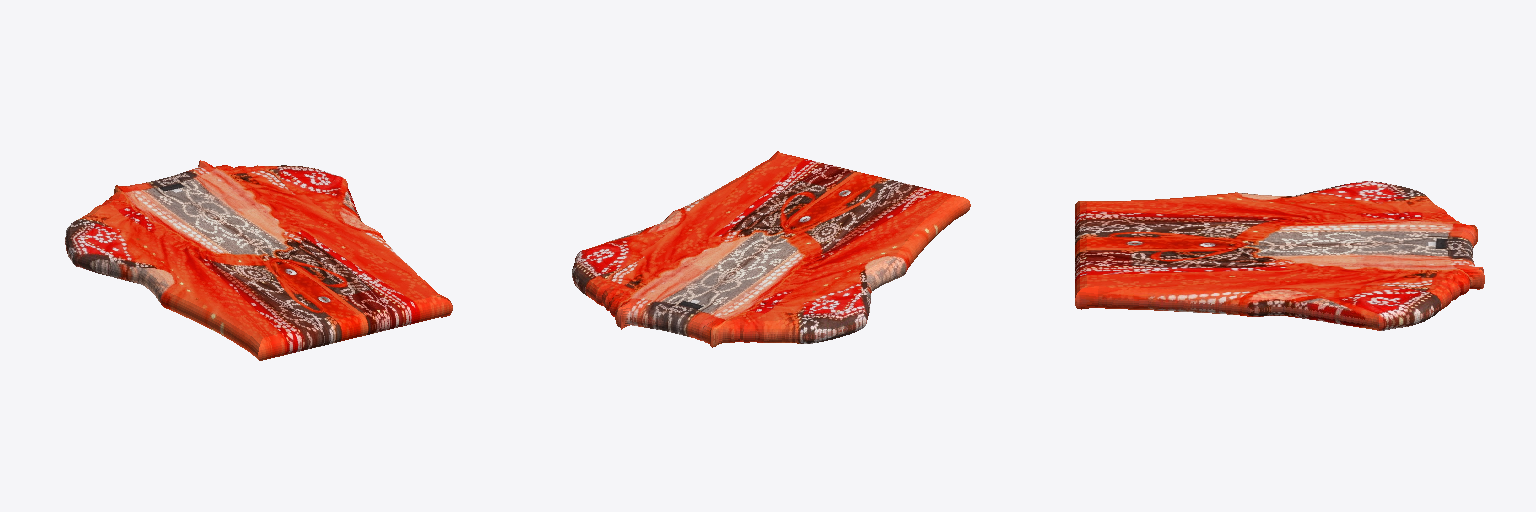
The picture shows the model from 3 angles: view 1: azimuth 30°, elevation 25°; view 2: azimuth 150°, elevation 25°; view 3: azimuth 270°, elevation 25°; orthographic projection.
Bounding box in the file's own units: 27.91 × 2 × 35.05.
1 materials, 1 textured.